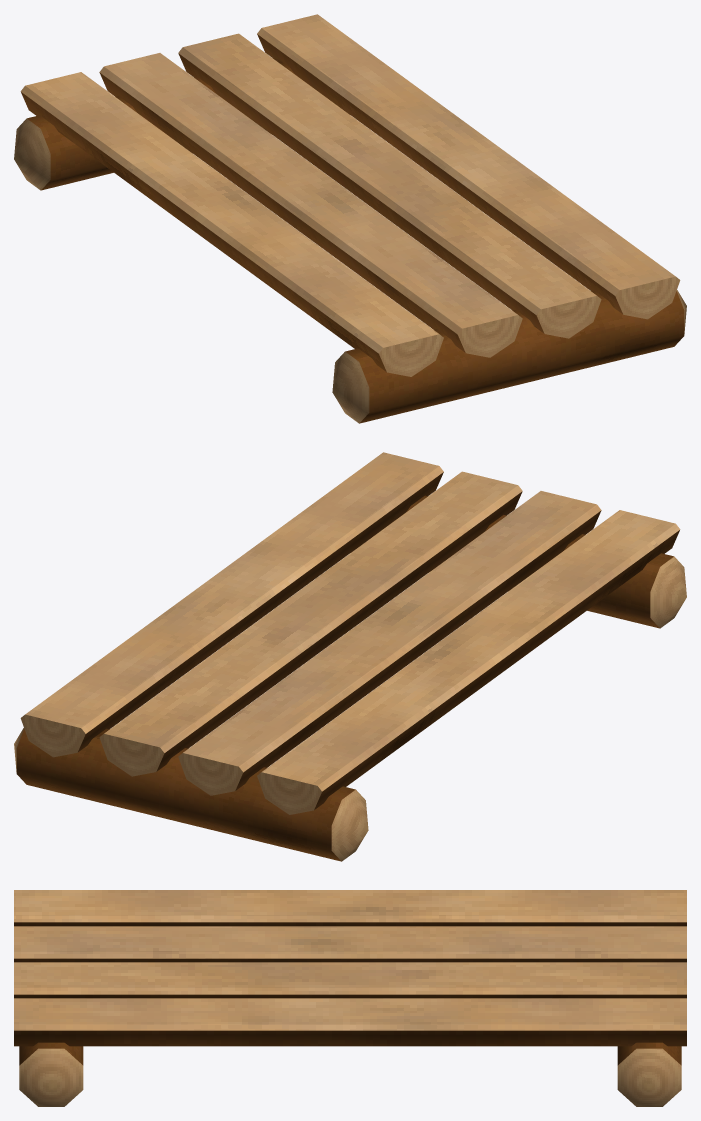
Rendered from Docks_Decking_Flat_1x2.glb.
3 views of the same model, one above another, from view 1: azimuth 30°, elevation 25°; view 2: azimuth 150°, elevation 25°; view 3: azimuth 270°, elevation 25° (orthographic). The views are drawn at different scales.
Visible parts, largest first — view 1: Docks_Decking_Flat_1x2; view 2: Docks_Decking_Flat_1x2; view 3: Docks_Decking_Flat_1x2.
Part boxes in pixels (box(x1,y1,x2,y2)): Docks_Decking_Flat_1x2: box(14, 14, 686, 423); Docks_Decking_Flat_1x2: box(14, 452, 686, 861); Docks_Decking_Flat_1x2: box(14, 890, 686, 1106).
Size of the model in its own units: 1.12 by 0.25 by 1.97.
Materials: 3 (3 with a texture image).
